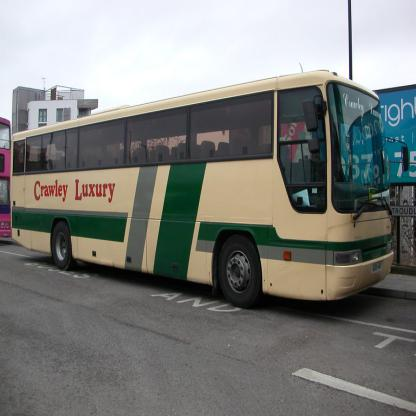Bus: (9, 70, 409, 310), (0, 116, 12, 239)
